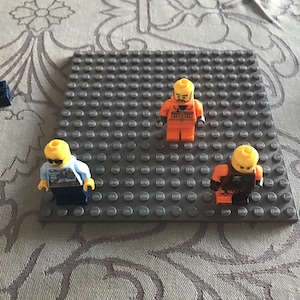Lego: (37, 139, 95, 205), (210, 144, 264, 205), (159, 78, 205, 141)
